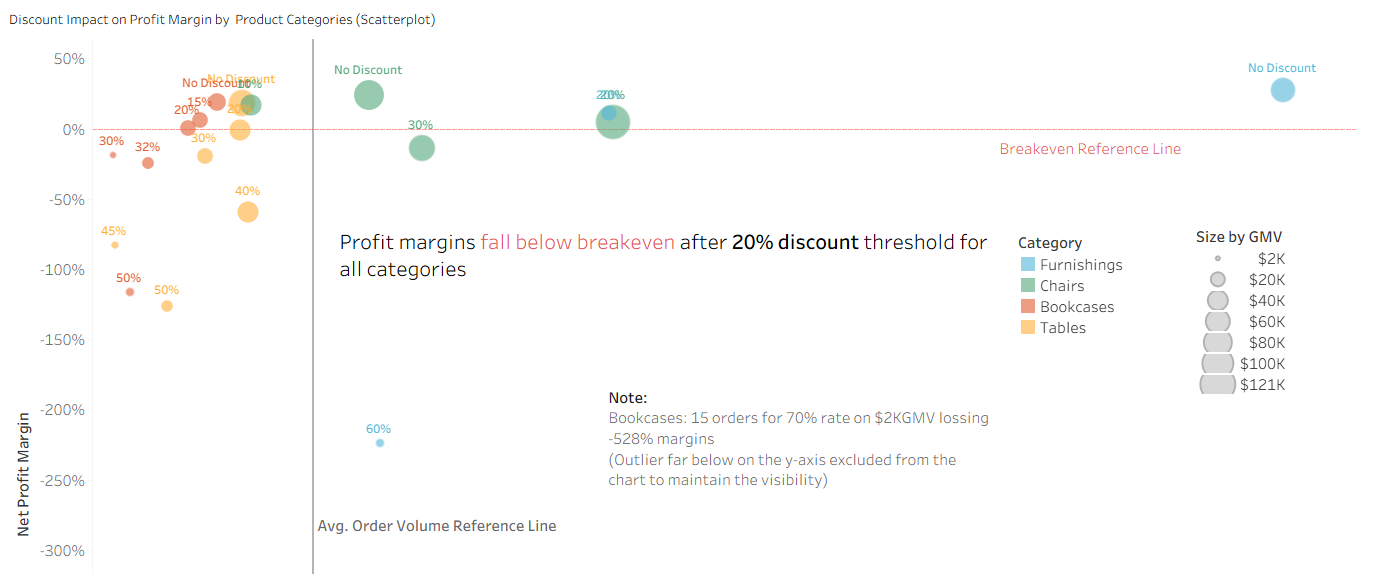

The page's visual inventory and layout, read from the dashboard file:
{"tool":"tableau","page":{"name":"Discount impact analysis","canvas":[1000,1000],"units":"permille","ordinal":1},"visuals":[{"type":"worksheet","title":"Discount Impact on Metrics (Scatterplot)","mark":"Automatic","rows":["Calculation_1501950486141198336"],"cols":["Fact_Sale.csv_DD4AFE6C198B4024BF9995ABA0D2F4DA"],"box":[4.8,10,661.4,980]},{"type":"text","box":[522.6,123.6,118.9,62.4]},{"type":"text","box":[178.6,166,347,193.5]},{"type":"legend","title":"Discount Impact on Metrics (Scatterplot)","param":"[federated.0hhiu8l0ea01lu1h5b91g067ybsd].[sum:Sales:qk]","box":[626.4,233.5,90.5,257.2]},{"type":"legend","title":"Discount Impact on Metrics (Scatterplot)","param":"[federated.0hhiu8l0ea01lu1h5b91g067ybsd].[none:Category:nk]","box":[534.1,239.7,84.5,132.3]},{"type":"text","box":[318.7,380.8,204.6,134.8]},{"type":"text","box":[167.2,509.4,156.9,49.9]}]}

Visuals, with their boxes on the dashboard's canvas, which has no fixed pixel size, in thousandths of its width and height (x1, y1, x2, y2). These are canvas units, not pixel positions in the 1376x574 screenshot, which may show the page scaled, cropped or inside an application window:
"Discount Impact on Metrics (Scatterplot)" worksheet: bbox=[5, 10, 666, 990]
text: bbox=[523, 124, 642, 186]
text: bbox=[179, 166, 526, 360]
"Discount Impact on Metrics (Scatterplot)" legend: bbox=[626, 234, 717, 491]
"Discount Impact on Metrics (Scatterplot)" legend: bbox=[534, 240, 619, 372]
text: bbox=[319, 381, 523, 516]
text: bbox=[167, 509, 324, 559]
